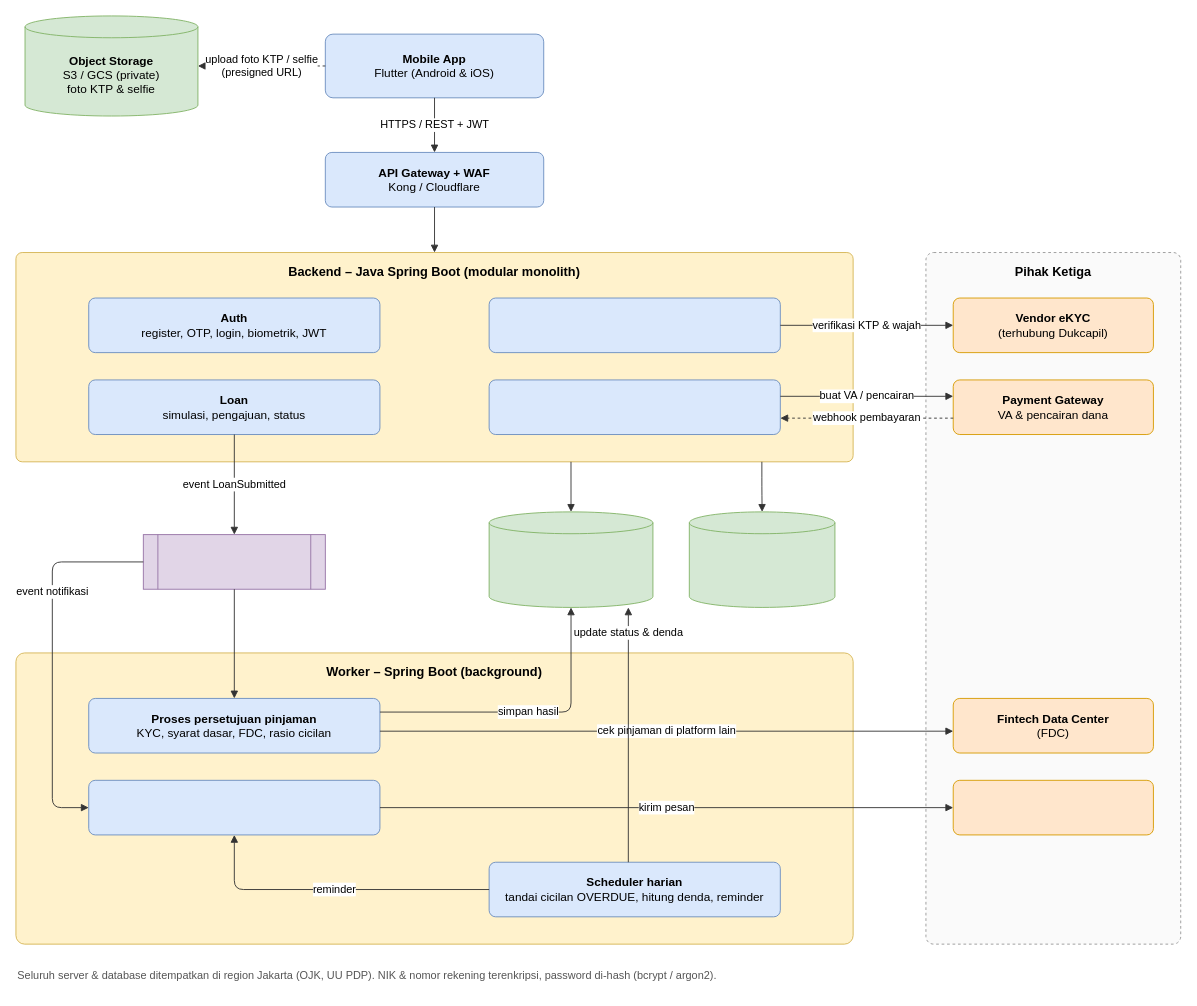
The diagram is 1197 pixels wide and 1006 high, and some of its shapes have lost their labels. Each missing label, with the centre of its shape:
Email / SMS / WhatsApp provider: point 1052,807
Kirim notifikasi email, SMS / WhatsApp, push: point 234,807
Message Queue RabbitMQ: point 233,561
PostgreSQL data utama: point 570,559
Redis OTP, session, rate limit: point 761,559
Tagihan & Payment cicilan, Virtual Account, webhook: point 634,407
User & KYC profil, upload URL, eKYC: point 634,325
